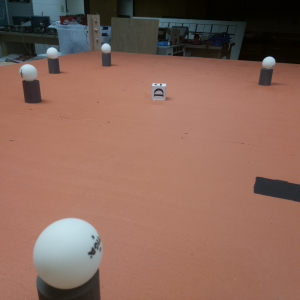blockD: (152, 82, 167, 101)
corner: (86, 13, 103, 52)
obstacle: (32, 216, 102, 300), (20, 64, 41, 102), (259, 57, 275, 86), (45, 47, 60, 72), (101, 43, 111, 66)
start: (251, 173, 300, 207)
